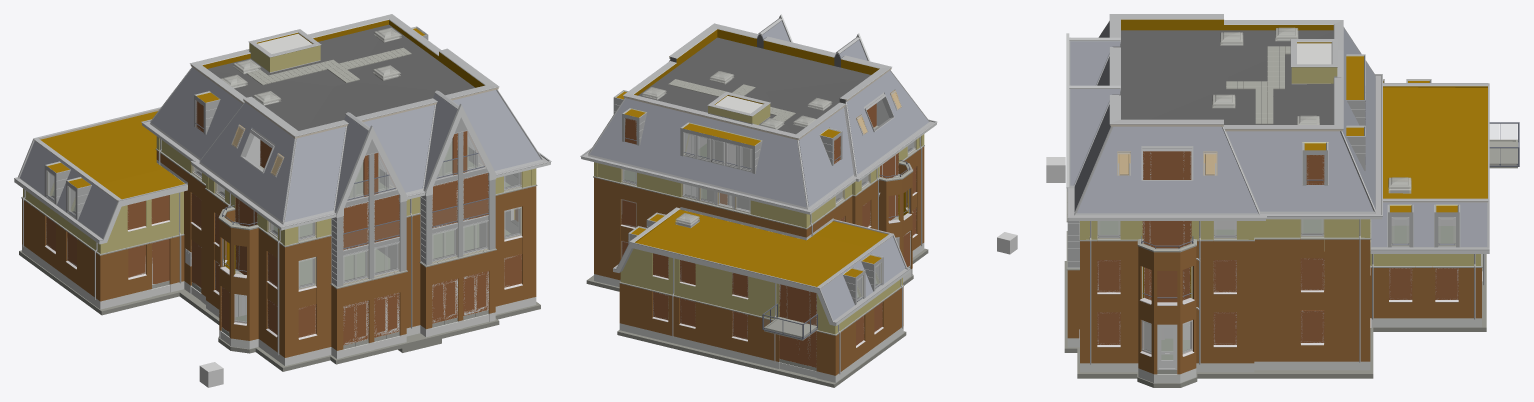
3 views of the same model, side by side, from view 1: azimuth 30°, elevation 25°; view 2: azimuth 150°, elevation 25°; view 3: azimuth 270°, elevation 25° (orthographic). The views are drawn at different scales.
Visible parts, largest first — view 1: 18j3O$xcX2Ih_wQkZiN2od, 0OCXCn3OLEJPn9Ben$c09G, 1YsW3XlsH6jQAy3oVokVoI, 2SZgOSofP2PBFS$KAhUxu3, 073WUmvbzFVP7tMfJQovg6, 22CPiCHcj4Bxue2KiwGzsR, 084MuEGfD4UB54wB7sJMXL, 2raCbTgHb52vuE6qdpZRn2, 3hqyh3fov9vxvrX2KulWNx, 2MGtJUm9nD$Re1_MDIv0g2, 0xYczUi_DC$uHsMfWYC1cm, 1iAvXA9o5BPgAwhGeJ88dm (+60 smaller); view 2: 1Gbp9IjqnCH8qFauUzhZdl, 18j3O$xcX2Ih_wQkZiN2od, 0OCXCn3OLEJPn9Ben$c09G, 1YsW3XlsH6jQAy3oVokVoI, 073WUmvbzFVP7tMfJQovg6, 2raCbTgHb52vuE6qdpZRn2, 00fSj8UXfAn8lUGu3HP6DA, 2DXRwGxjb2hAD7EnaJghPn, 1i40eUabT0jBHvLTD9ciNT, 2X9Gop0bn3_x38P_1PGdAJ, 1fGrQYIYP4IxWBDX0HVDV6, 2$jpBsfqD9mwGiQ1MIMyCK (+36 smaller); view 3: 18j3O$xcX2Ih_wQkZiN2od, 0OCXCn3OLEJPn9Ben$c09G, 02XXlov8DEKQFyDiiYoPhg, 2N2M5zi3L3ghszlmPoJ3z$, 1ZNir8Ykb5_eoXCXVaPrPD, 2cIQdivwH0euQ3BKDTFgOA, 2WW_2E6Wr1XPPZ0X1qKYGa, 0UxNakFZTANgAC$rAiuj6F, 1Gbp9IjqnCH8qFauUzhZdl, 2Dd7N80nT6xvZLlvwl32zj, 2PNj2dMNT9wOnOYdNWAJQh, 3KZ1A31pLDZgv61Pr5ILuZ (+77 smaller).
Boxes of the visible parts, box(x1,y1,x2,y2) form: 18j3O$xcX2Ih_wQkZiN2od: box(207, 24, 474, 130); 0OCXCn3OLEJPn9Ben$c09G: box(40, 111, 164, 183); 1YsW3XlsH6jQAy3oVokVoI: box(200, 102, 294, 221); 2SZgOSofP2PBFS$KAhUxu3: box(285, 126, 345, 221); 073WUmvbzFVP7tMfJQovg6: box(151, 67, 242, 158); 22CPiCHcj4Bxue2KiwGzsR: box(452, 90, 540, 170); 084MuEGfD4UB54wB7sJMXL: box(363, 105, 434, 192); 2raCbTgHb52vuE6qdpZRn2: box(20, 141, 117, 238); 3hqyh3fov9vxvrX2KulWNx: box(101, 168, 184, 199); 2MGtJUm9nD$Re1_MDIv0g2: box(299, 248, 390, 285); 0xYczUi_DC$uHsMfWYC1cm: box(424, 93, 457, 189); 1iAvXA9o5BPgAwhGeJ88dm: box(335, 115, 368, 211); 1Gbp9IjqnCH8qFauUzhZdl: box(589, 98, 806, 207); 18j3O$xcX2Ih_wQkZiN2od: box(638, 37, 870, 134); 0OCXCn3OLEJPn9Ben$c09G: box(636, 209, 869, 286); 1YsW3XlsH6jQAy3oVokVoI: box(847, 70, 928, 174); 073WUmvbzFVP7tMfJQovg6: box(799, 107, 853, 206); 2raCbTgHb52vuE6qdpZRn2: box(820, 236, 905, 320); 00fSj8UXfAn8lUGu3HP6DA: box(613, 242, 836, 325); 2DXRwGxjb2hAD7EnaJghPn: box(617, 330, 841, 387); 1i40eUabT0jBHvLTD9ciNT: box(695, 264, 732, 305); 2X9Gop0bn3_x38P_1PGdAJ: box(779, 284, 816, 325); 1fGrQYIYP4IxWBDX0HVDV6: box(619, 323, 779, 368); 2$jpBsfqD9mwGiQ1MIMyCK: box(695, 302, 732, 342); 18j3O$xcX2Ih_wQkZiN2od: box(1120, 30, 1333, 124); 0OCXCn3OLEJPn9Ben$c09G: box(1383, 87, 1487, 198); 02XXlov8DEKQFyDiiYoPhg: box(1077, 126, 1257, 213); 2N2M5zi3L3ghszlmPoJ3z$: box(1226, 131, 1373, 211); 1ZNir8Ykb5_eoXCXVaPrPD: box(1371, 202, 1487, 246); 2cIQdivwH0euQ3BKDTFgOA: box(1324, 252, 1370, 304); 2WW_2E6Wr1XPPZ0X1qKYGa: box(1254, 252, 1300, 304); 0UxNakFZTANgAC$rAiuj6F: box(1070, 89, 1120, 185); 1Gbp9IjqnCH8qFauUzhZdl: box(1342, 28, 1375, 209); 2Dd7N80nT6xvZLlvwl32zj: box(1254, 304, 1300, 350); 2PNj2dMNT9wOnOYdNWAJQh: box(1324, 304, 1370, 350); 3KZ1A31pLDZgv61Pr5ILuZ: box(1077, 362, 1373, 378).
Size of the model in its own units: 23.95 by 15.06 by 24.47.
